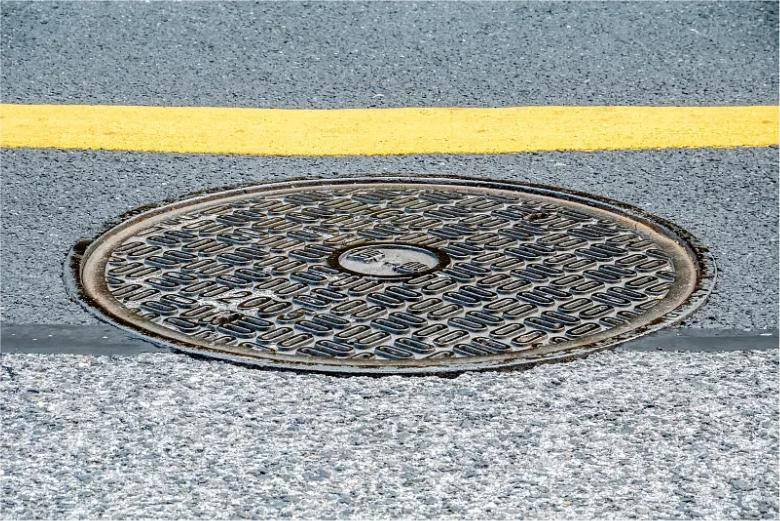wellcover: (64, 164, 728, 373)
